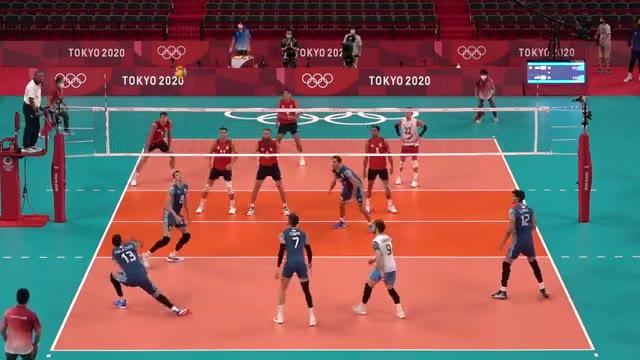ball: (175, 64, 185, 80)
